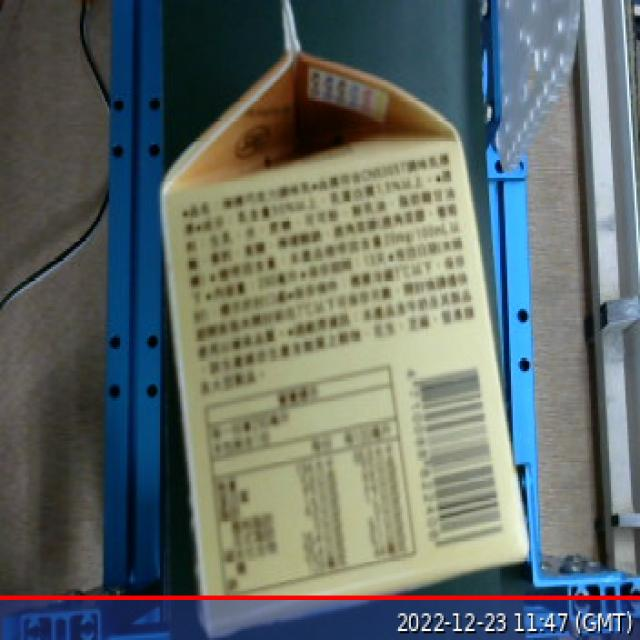non_white_jug: (155, 0, 553, 640)
